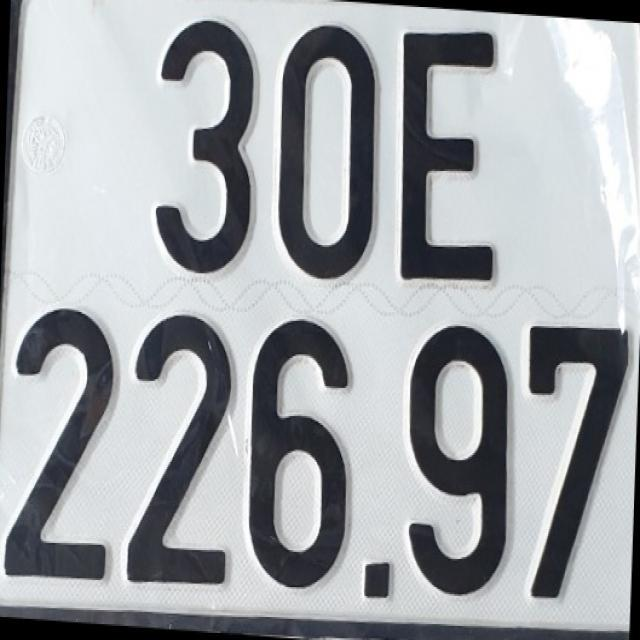0: (268, 11, 384, 288)
2: (0, 294, 117, 590), (122, 300, 237, 590)
3: (140, 14, 266, 273)
6: (238, 305, 359, 594)
7: (522, 312, 630, 610)
9: (393, 308, 518, 604)
E: (392, 14, 509, 291)
